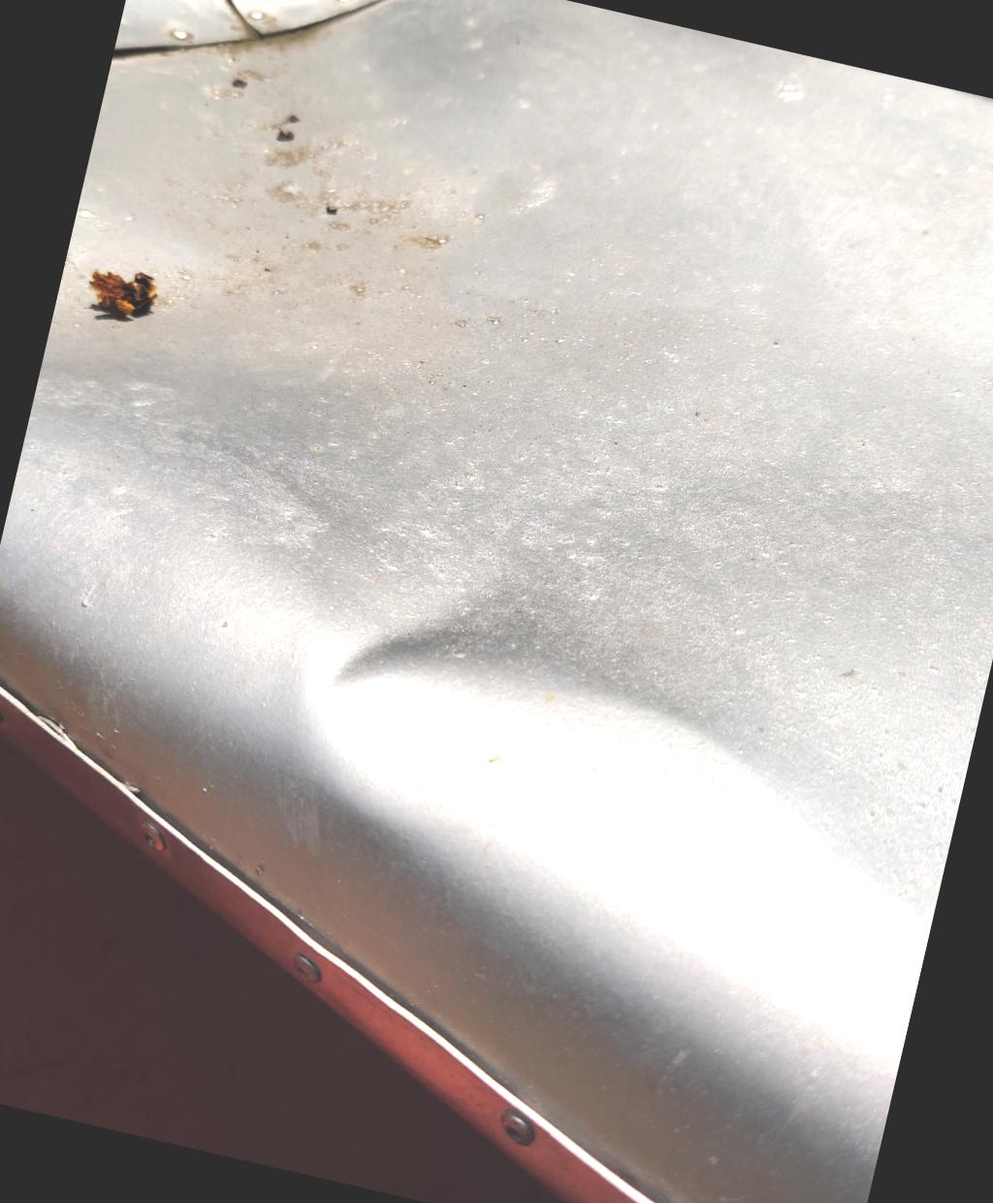dent: (265, 484, 566, 803)
